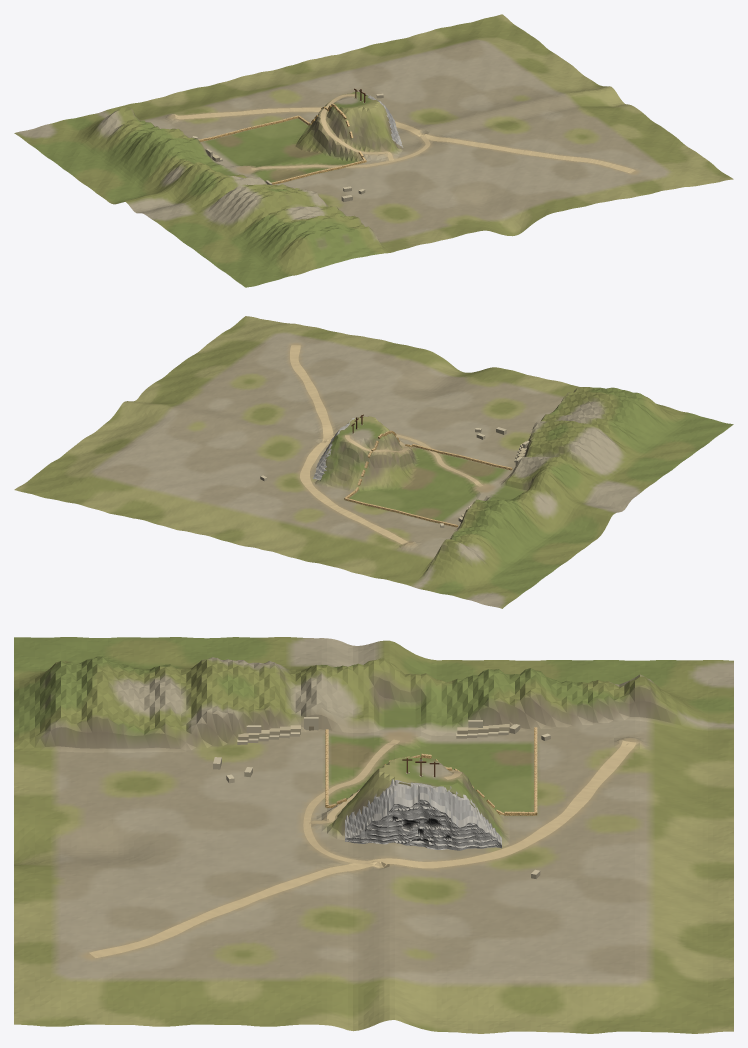
File: golgota_cenario.glb
The picture shows the model from 3 angles, top to bottom: view 1: azimuth 30°, elevation 25°; view 2: azimuth 150°, elevation 25°; view 3: azimuth 270°, elevation 25°; orthographic projection. The views are drawn at different scales.
Parts seen in each view (by area): view 1: Golgota_Terreno, Golgota_Trilha, Golgota_Trilha_Horto, Golgota_Trilha_Monte; view 2: Golgota_Terreno, Golgota_Trilha; view 3: Golgota_Terreno, Golgota_Face, Golgota_Trilha, Pedreira, Golgota_Trilha_Horto.
Part boxes in pixels (x1,y1,x2,y2): Golgota_Terreno: [14, 14, 733, 287]; Golgota_Trilha: [175, 107, 635, 173]; Golgota_Trilha_Horto: [251, 133, 430, 170]; Golgota_Trilha_Monte: [320, 94, 393, 160]; Golgota_Terreno: [14, 316, 733, 608]; Golgota_Trilha: [290, 345, 409, 544]; Golgota_Terreno: [14, 637, 733, 1033]; Golgota_Face: [345, 779, 501, 850]; Golgota_Trilha: [89, 741, 636, 957]; Pedreira: [213, 717, 550, 878]; Golgota_Trilha_Horto: [303, 739, 399, 866].
Size of the model in its own units: 168 by 19.51 by 138.
Materials: 8 (1 with a texture image).
